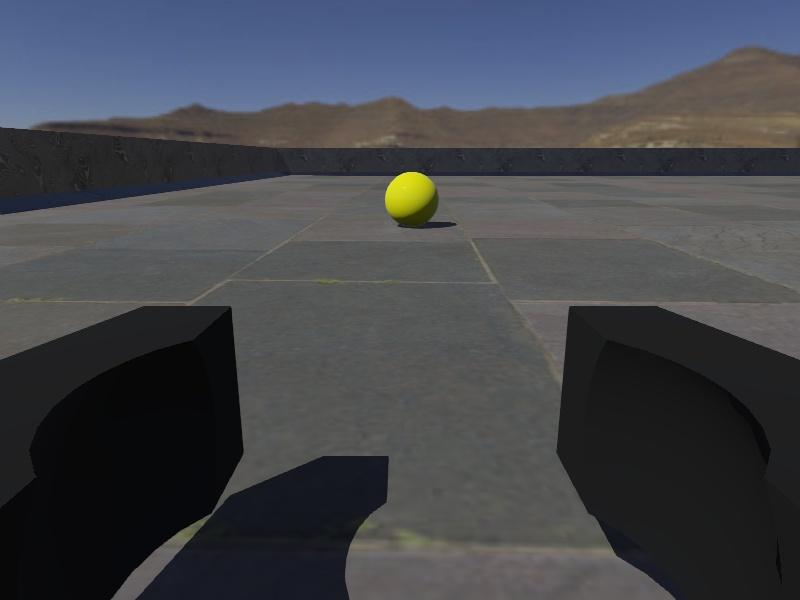yellow ball: (384, 171, 440, 228)
